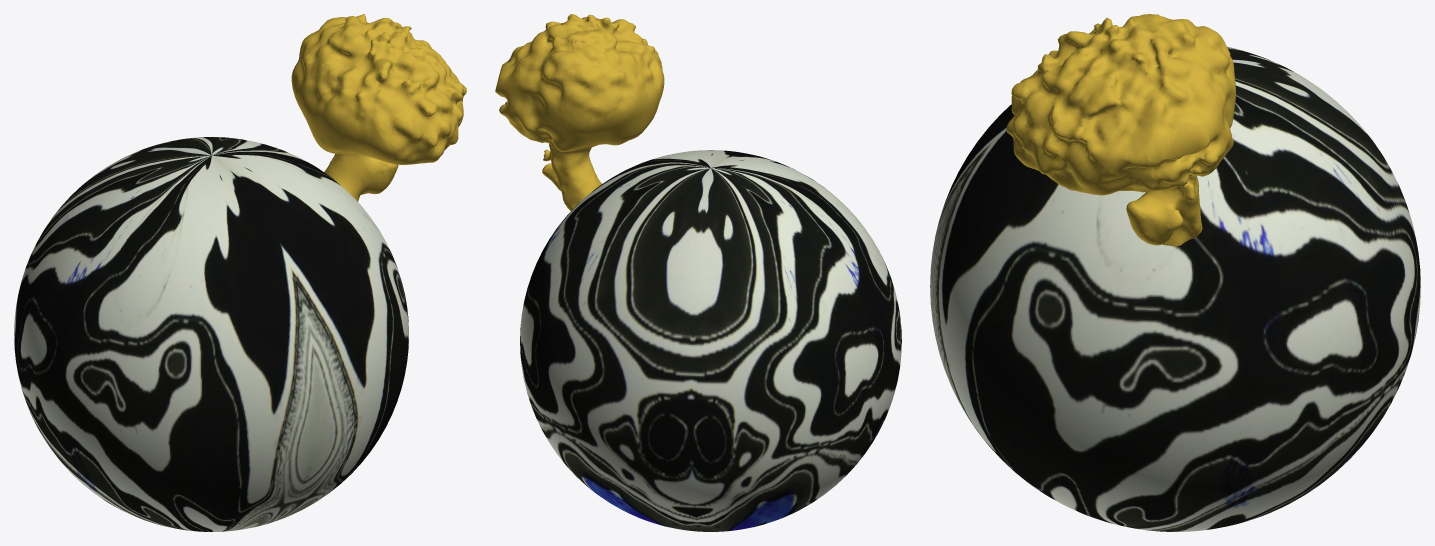
File: theothercatseyemarble2.glb
3 views of the same model, side by side, from view 1: azimuth 30°, elevation 25°; view 2: azimuth 150°, elevation 25°; view 3: azimuth 270°, elevation 25° (orthographic). The views are drawn at different scales.
Visible parts, largest first — view 1: videotarget, Mushroom 11; view 2: videotarget, Mushroom 11; view 3: videotarget, Mushroom 11.
Boxes of the visible parts, bbox=[...] form: videotarget: bbox=[14, 137, 408, 531]; Mushroom 11: bbox=[291, 14, 466, 201]; videotarget: bbox=[520, 150, 901, 531]; Mushroom 11: bbox=[495, 14, 664, 210]; videotarget: bbox=[930, 47, 1420, 531]; Mushroom 11: bbox=[1006, 14, 1235, 246].
Bounding box in the file's own units: 3.51 × 3.88 × 3.
2 materials, 1 textured.
